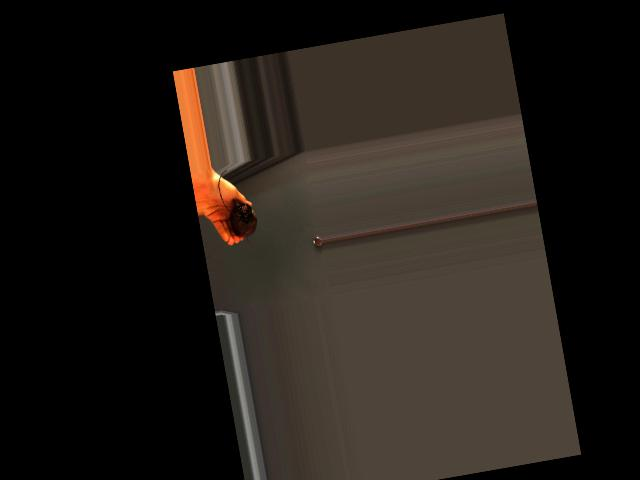beet: (215, 167, 260, 249)
